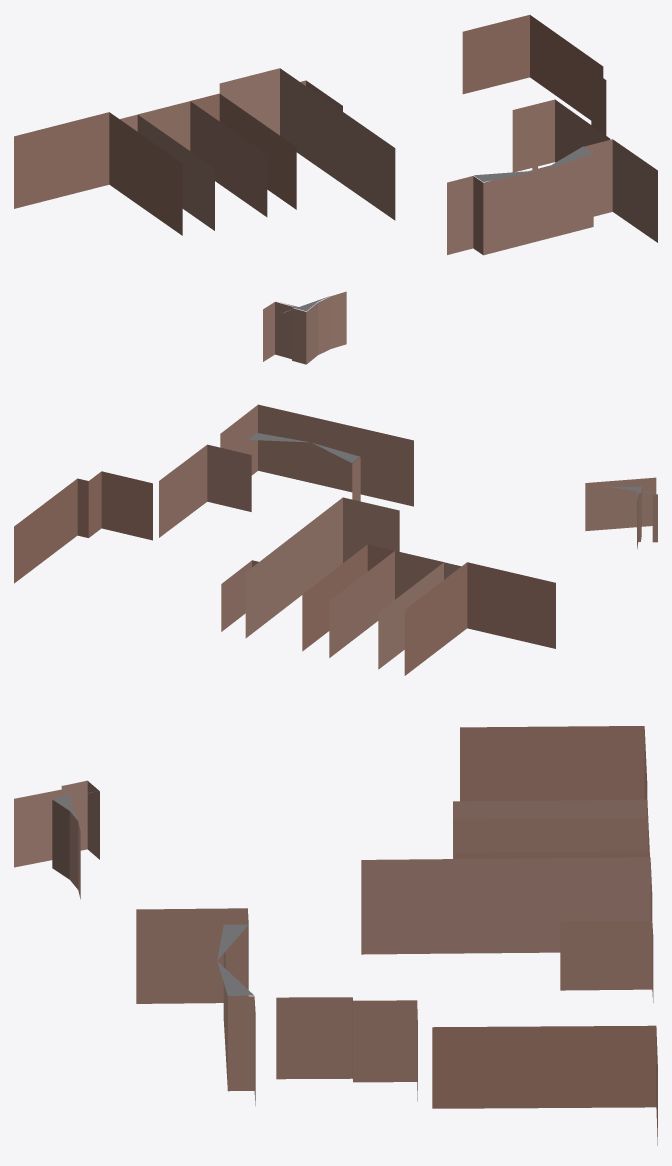
File: c_1633_17828_buildings_residential.glb
3 views of the same model, one above another, from view 1: azimuth 30°, elevation 25°; view 2: azimuth 150°, elevation 25°; view 3: azimuth 270°, elevation 25° (orthographic). The views are drawn at different scales.
Parts seen in each view (by area): view 1: geometry_0; view 2: geometry_0; view 3: geometry_0.
Boxes of the visible parts, box(x1,y1,x2,y2) form: geometry_0: box(14, 15, 657, 364); geometry_0: box(14, 404, 657, 675); geometry_0: box(14, 726, 657, 1145).
Size of the model in its own units: 82.91 by 11.92 by 67.91.
